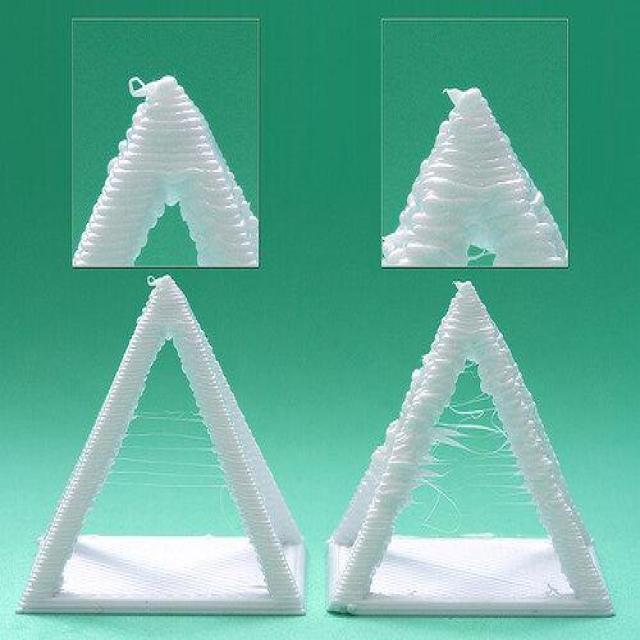stringing: (420, 367, 531, 569), (106, 398, 234, 521)
